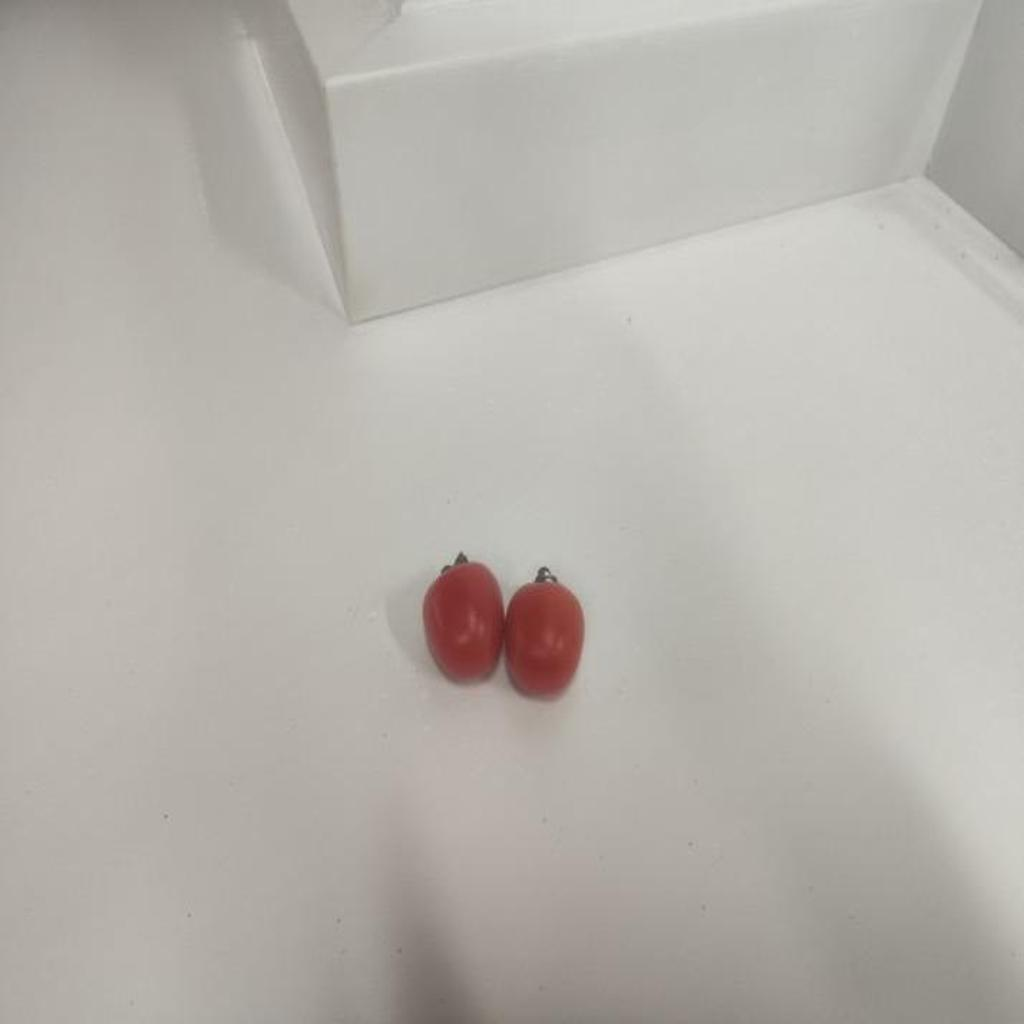tomato: (418, 549, 512, 683), (503, 570, 586, 701)
